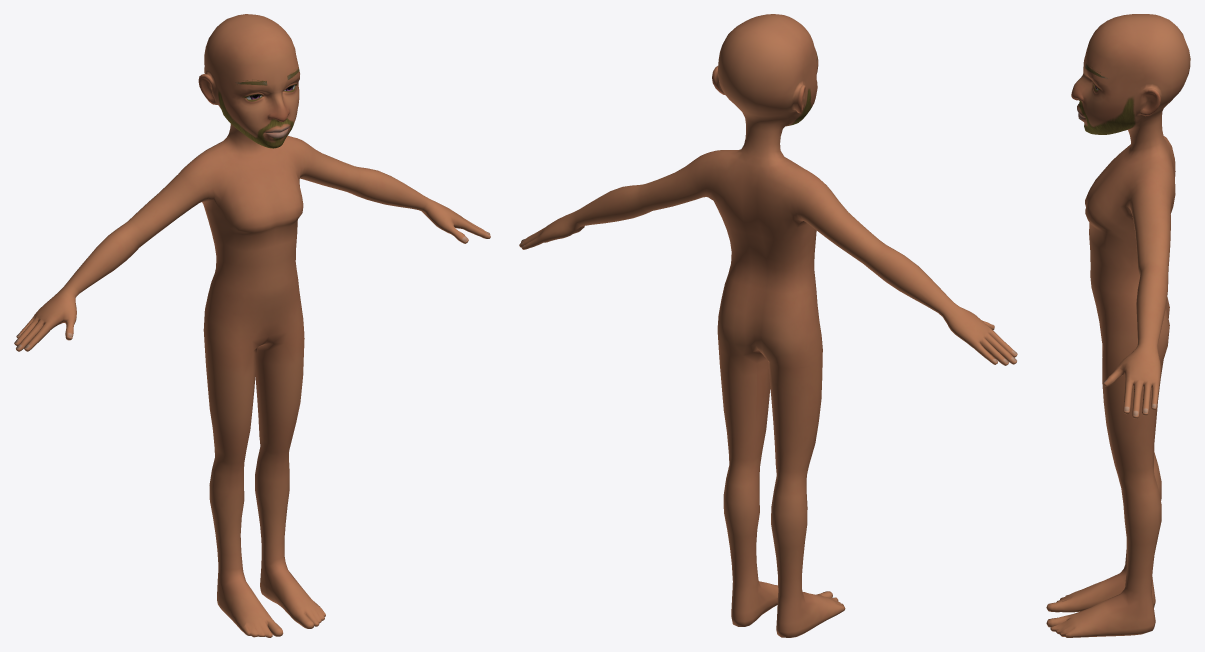
File: frame_0028.glb
3 renders of one model, left to right at view 1: azimuth 30°, elevation 25°; view 2: azimuth 150°, elevation 25°; view 3: azimuth 270°, elevation 25°, orthographic. The views are drawn at different scales.
Parts seen in each view (by area): view 1: frame_0028_head_geo; view 2: frame_0028_head_geo; view 3: frame_0028_head_geo.
Part boxes in pixels (bbox=[...]): frame_0028_head_geo: bbox=[14, 14, 490, 637]; frame_0028_head_geo: bbox=[519, 14, 1017, 637]; frame_0028_head_geo: bbox=[1046, 14, 1190, 637].
Bounding box in the file's own units: 1.28 × 1.5 × 0.3253.
Materials: 3 (3 with a texture image).
